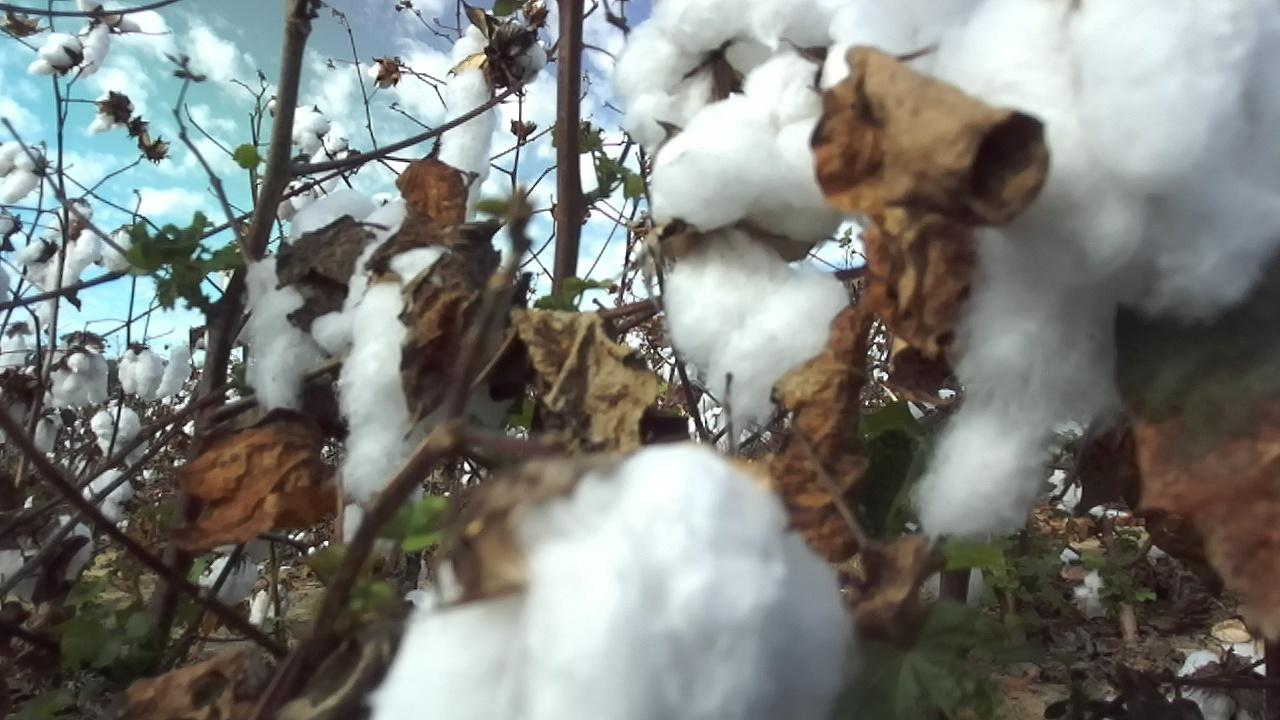cotton_ready: (907, 0, 1280, 542), (367, 444, 850, 720), (607, 0, 936, 244), (348, 15, 545, 309), (664, 227, 852, 430), (337, 247, 479, 507), (244, 185, 372, 420), (0, 512, 94, 614), (1175, 644, 1280, 720), (200, 531, 288, 610), (345, 483, 429, 562), (77, 0, 143, 77), (49, 197, 95, 301), (47, 350, 112, 410), (94, 404, 147, 470), (0, 139, 44, 206), (83, 465, 132, 522), (103, 227, 159, 275), (27, 34, 79, 74), (123, 344, 160, 397)
